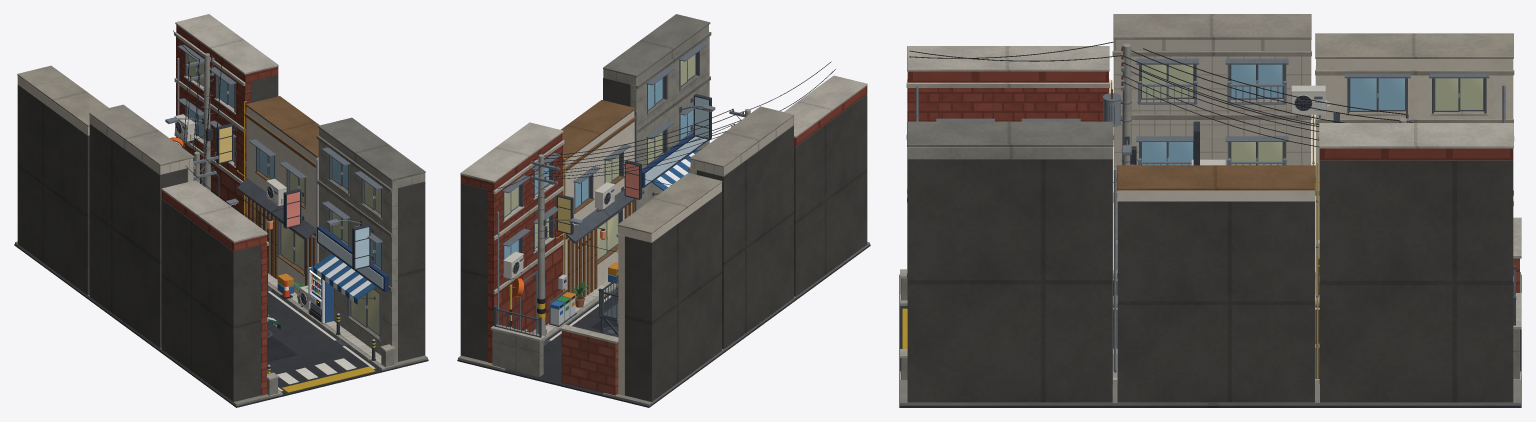
File: kr_seoul_alley_street_hero-mobile.glb
3 renders of one model, left to right at view 1: azimuth 30°, elevation 25°; view 2: azimuth 150°, elevation 25°; view 3: azimuth 270°, elevation 25°, orthographic. The views are drawn at different scales.
Visible parts, largest first — view 1: BG_Shell_Fixed, BG_Cutaway_Front, BG_Furnishings, BG_Ceiling; view 2: BG_Shell_Fixed, BG_Cutaway_Front, BG_Furnishings, BG_Ceiling; view 3: BG_Shell_Fixed, BG_Cutaway_Front, BG_Ceiling, BG_Furnishings.
Boxes of the visible parts, <box> form: BG_Shell_Fixed: <box>14,14,428,407</box>; BG_Cutaway_Front: <box>17,65,395,401</box>; BG_Furnishings: <box>165,53,375,373</box>; BG_Ceiling: <box>169,30,320,302</box>; BG_Shell_Fixed: <box>457,14,870,407</box>; BG_Cutaway_Front: <box>598,75,867,401</box>; BG_Furnishings: <box>509,108,750,337</box>; BG_Ceiling: <box>497,61,835,294</box>; BG_Shell_Fixed: <box>899,121,1521,407</box>; BG_Cutaway_Front: <box>900,14,1514,379</box>; BG_Ceiling: <box>909,41,1412,164</box>; BG_Furnishings: <box>1103,43,1408,378</box>.
Size of the model in its own units: 8 by 7.47 by 16.
2 materials, 2 textured.
